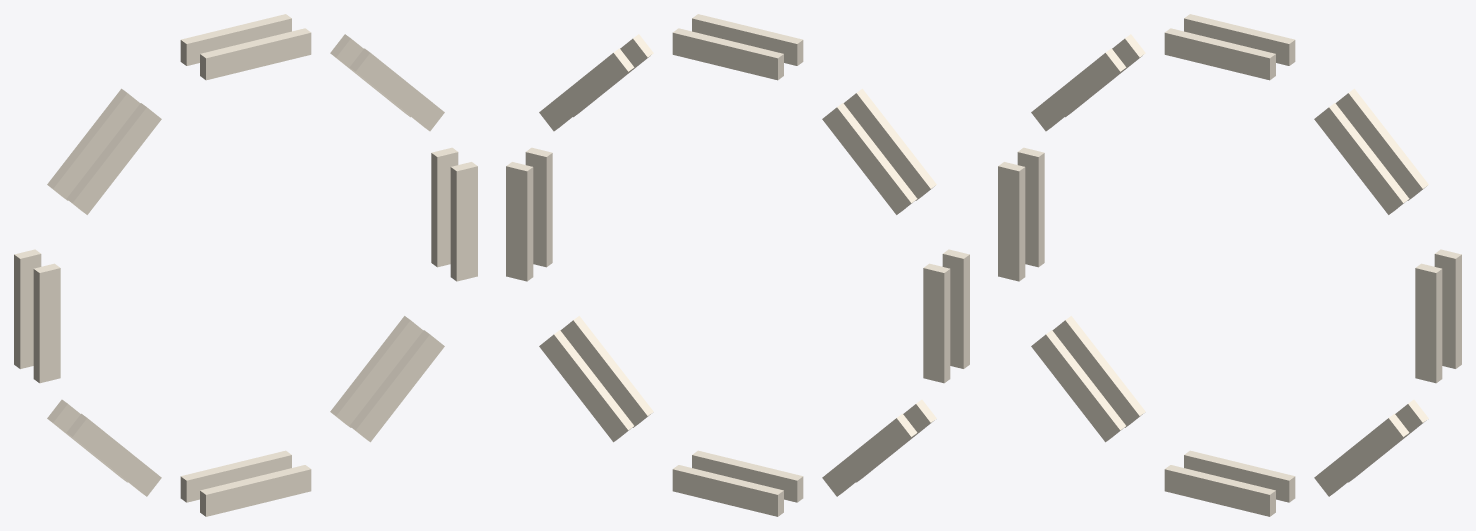
File: command_centre_inner.glb
3 renders of one model, left to right at view 1: azimuth 30°, elevation 25°; view 2: azimuth 150°, elevation 25°; view 3: azimuth 330°, elevation 25°, orthographic.
Parts seen in each view (by area): view 1: Cube.007; view 2: Cube.007; view 3: Cube.007.
Part boxes in pixels (x1=…): Cube.007: x1=14, y1=14, x2=477, y2=516; Cube.007: x1=506, y1=14, x2=969, y2=516; Cube.007: x1=998, y1=14, x2=1461, y2=516.
Bounding box in the file's own units: 83.2 × 83.2 × 8.39.
